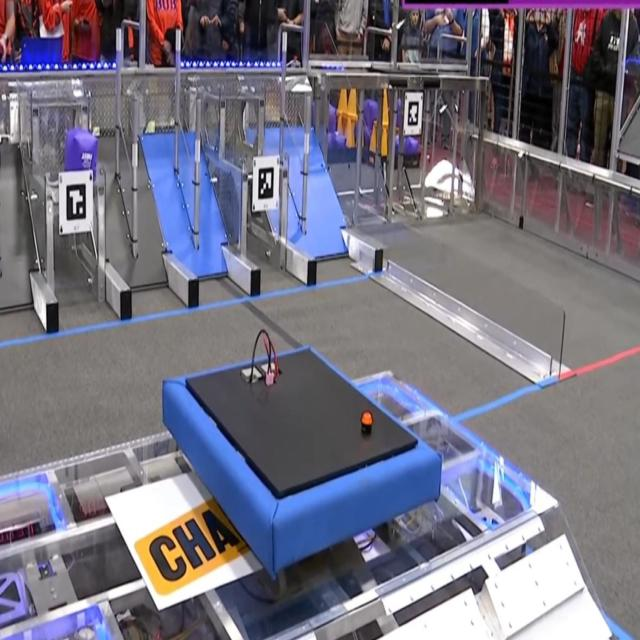frc_cone: (379, 128, 390, 166), (339, 89, 350, 121), (328, 77, 338, 111), (370, 86, 379, 123), (359, 123, 367, 159), (350, 90, 359, 118), (346, 120, 353, 152), (381, 91, 388, 121), (369, 126, 374, 160)
frc_cube: (65, 127, 97, 182), (363, 96, 381, 128), (327, 100, 338, 139), (406, 137, 420, 158)
